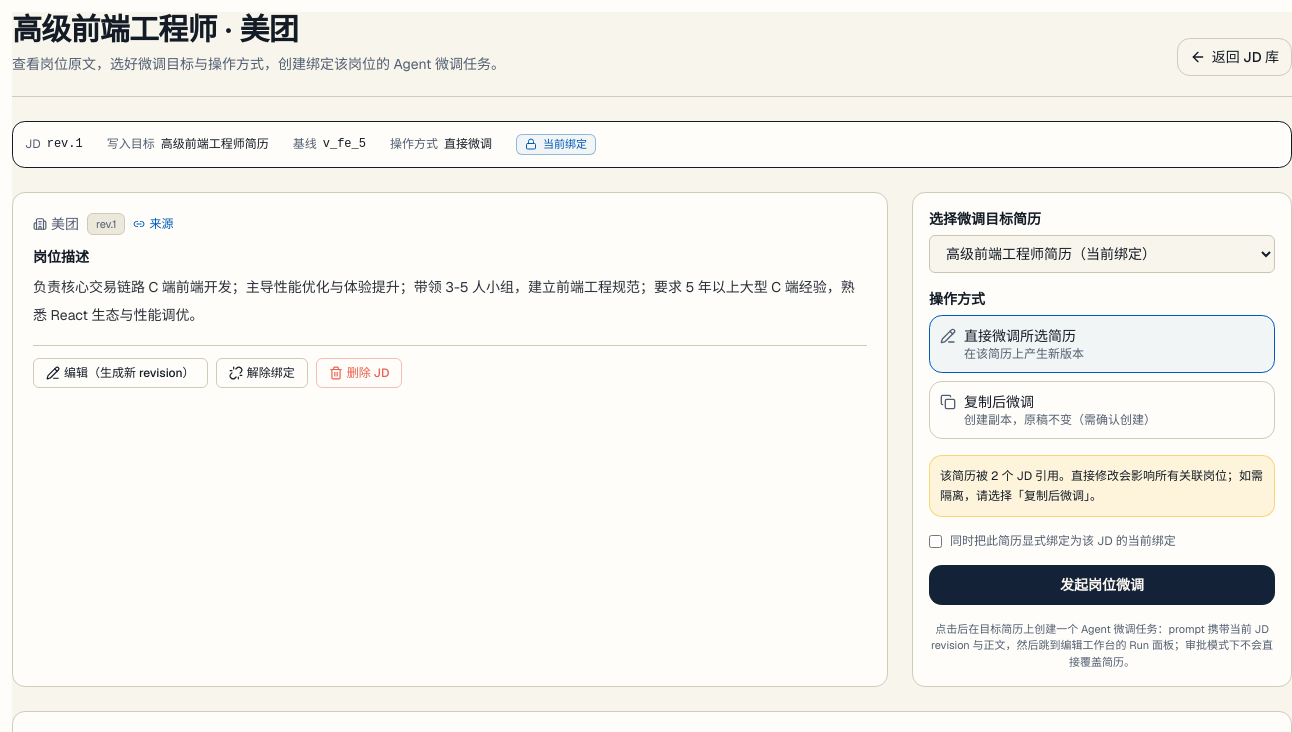
Test: JD 详情：发起微调创建真实 Agent run › startRun 429 映射 i18n，不透出服务端原文
Click the button "发起岗位微调" at (1102, 585), box [929,565,1275,605]
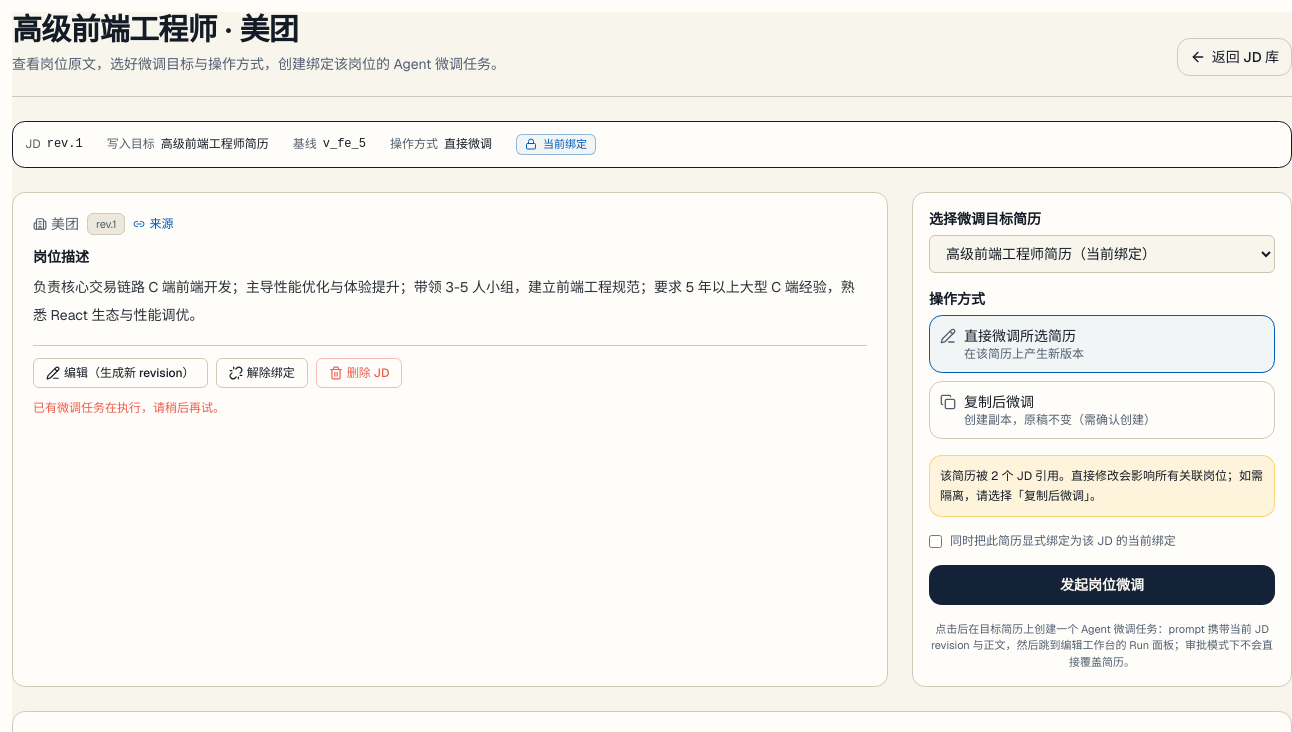
Expected: the message does not show "raw-backend-run-message-should-not-leak", [33,400,225,416]
Result: the message reads "已有微调任务在执行，请稍后再试。" at [33,400,225,416]
